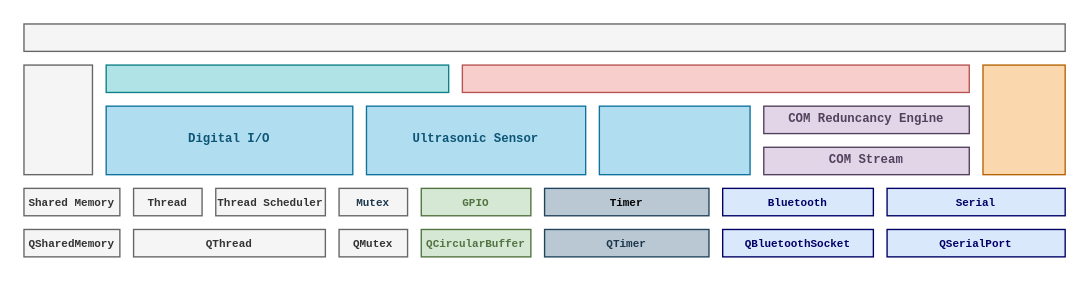
The diagram is 1089 pixels wide and 281 high, and some of its shapes have lost their labels. The centre of each missing label's shape, as x and y in pixels:
"COM" goes at [1023,119].
"Control" goes at [715,78].
"HMI" goes at [277,78].
"Main Application" goes at [544,37].
"Motor" goes at [674,140].
"OS" goes at [57,119].
